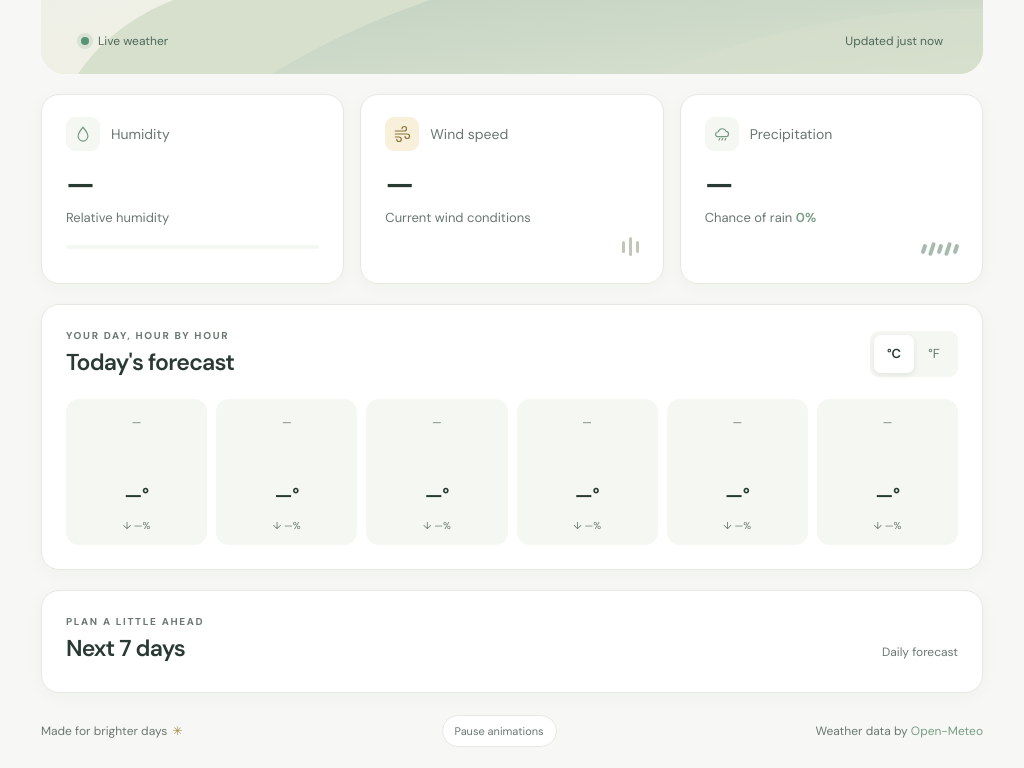
WeatherDashboard › pauses and resumes weather animations accessibly
The image size is (1024, 768).
Later steps or results of the test are not shown.
(page scrolled)
Click the button "Pause animations".
click(499, 731)  # box [442, 715, 556, 747]
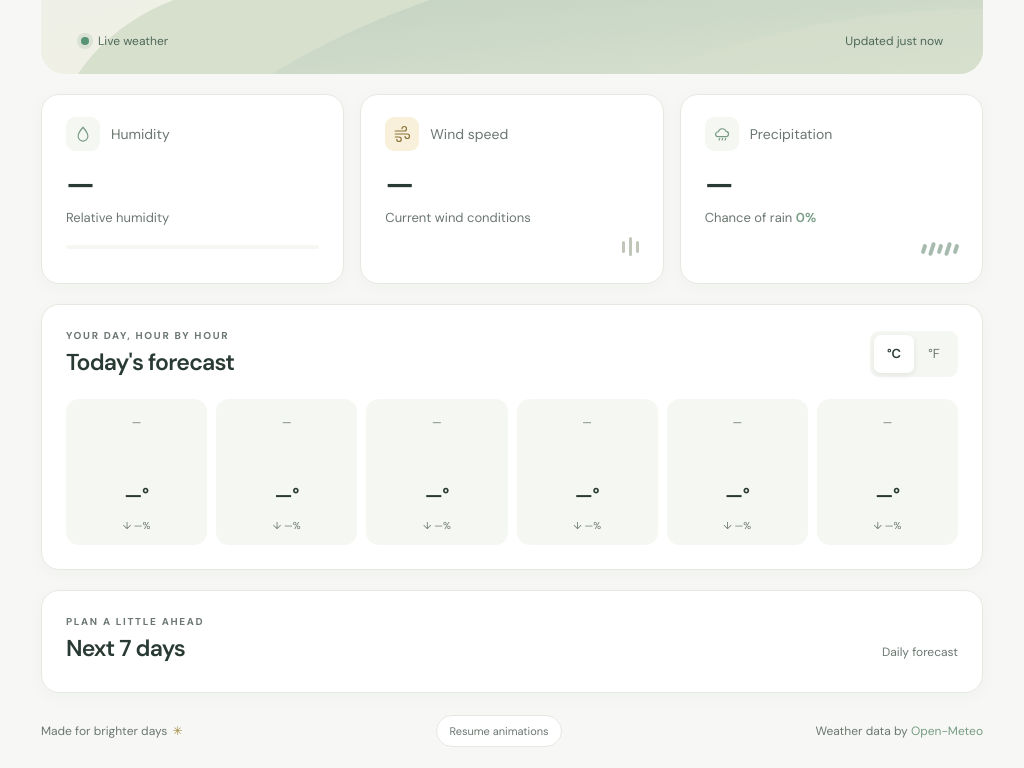
Expected: the button "Resume animations" is pressed, [436, 715, 562, 747]
